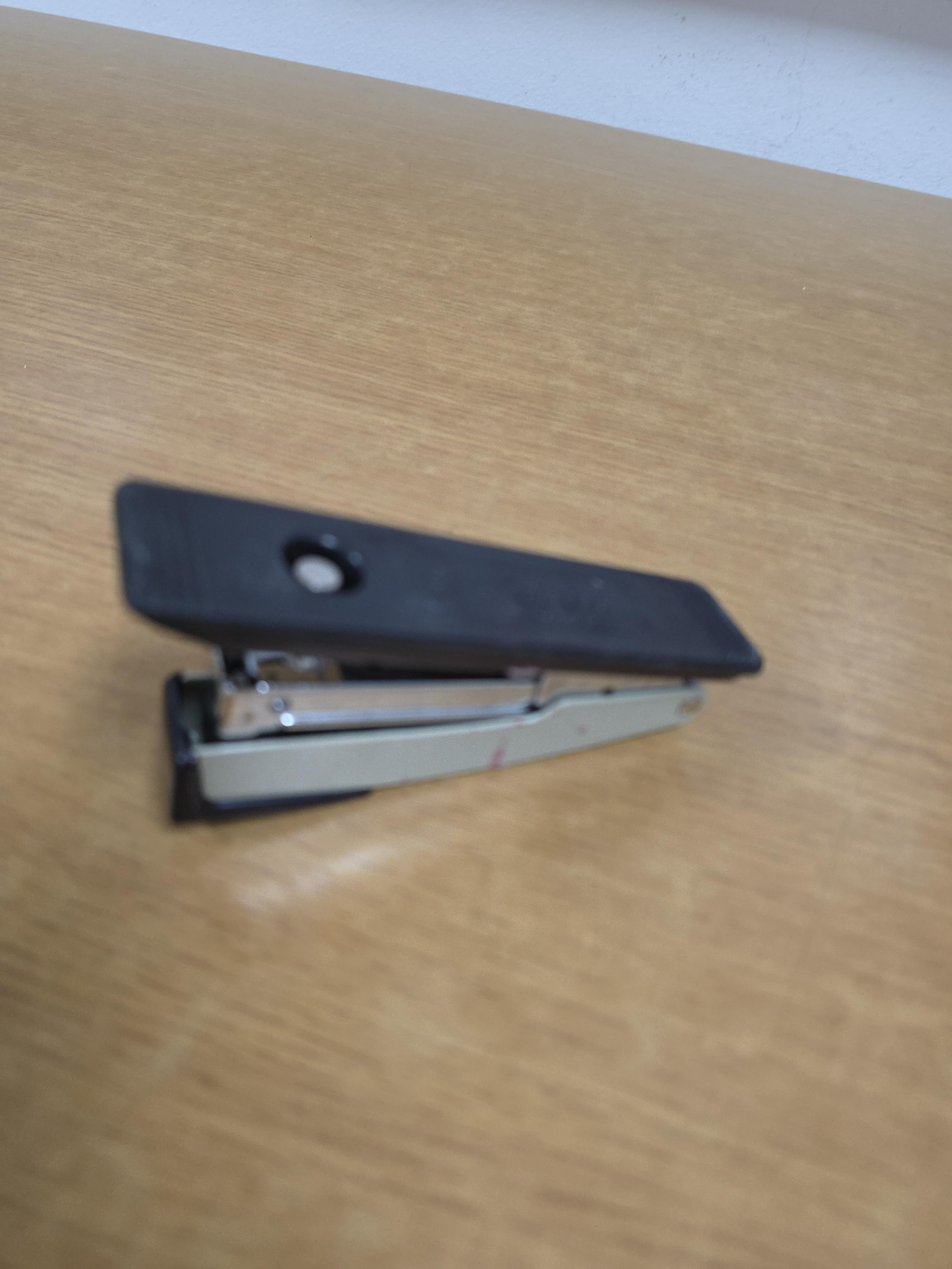stapler: (113, 477, 767, 824)
